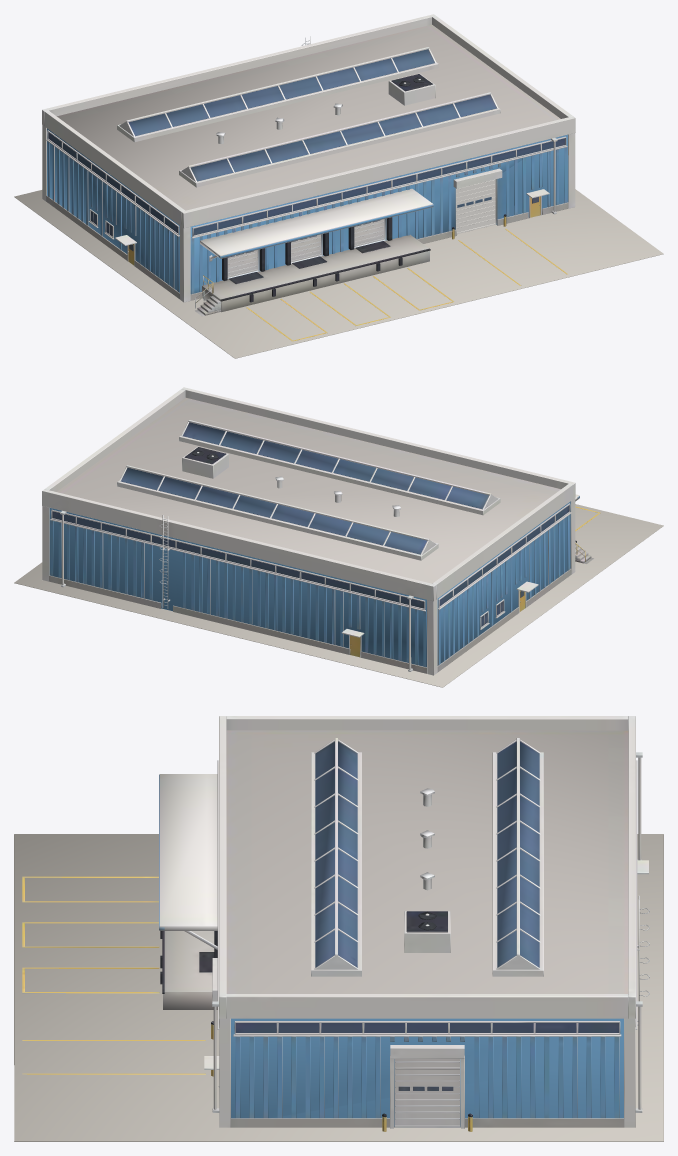
The model's file is warehouse.glb.
3 views of the same model, one above another, from view 1: azimuth 30°, elevation 25°; view 2: azimuth 150°, elevation 25°; view 3: azimuth 270°, elevation 25° (orthographic). The views are drawn at different scales.
Parts seen in each view (by area): view 1: warehouse_body, warehouse_hall, warehouse_yard_slab, warehouse_roller_door; view 2: warehouse_body, warehouse_hall, warehouse_yard_slab; view 3: warehouse_hall, warehouse_body, warehouse_yard_slab.
Boxes of the visible parts, <box> form: warehouse_body: <box>42,14,575,341</box>; warehouse_hall: <box>47,24,568,294</box>; warehouse_yard_slab: <box>14,189,663,358</box>; warehouse_roller_door: <box>456,179,495,234</box>; warehouse_body: <box>42,387,600,675</box>; warehouse_hall: <box>49,397,570,667</box>; warehouse_yard_slab: <box>14,504,663,687</box>; warehouse_hall: <box>226,730,628,1126</box>; warehouse_body: <box>22,716,649,1131</box>; warehouse_yard_slab: <box>14,834,663,1141</box>.
Bounding box in the file's own units: 44 × 9.53 × 39.3.
Materials: 5 (2 with a texture image).
